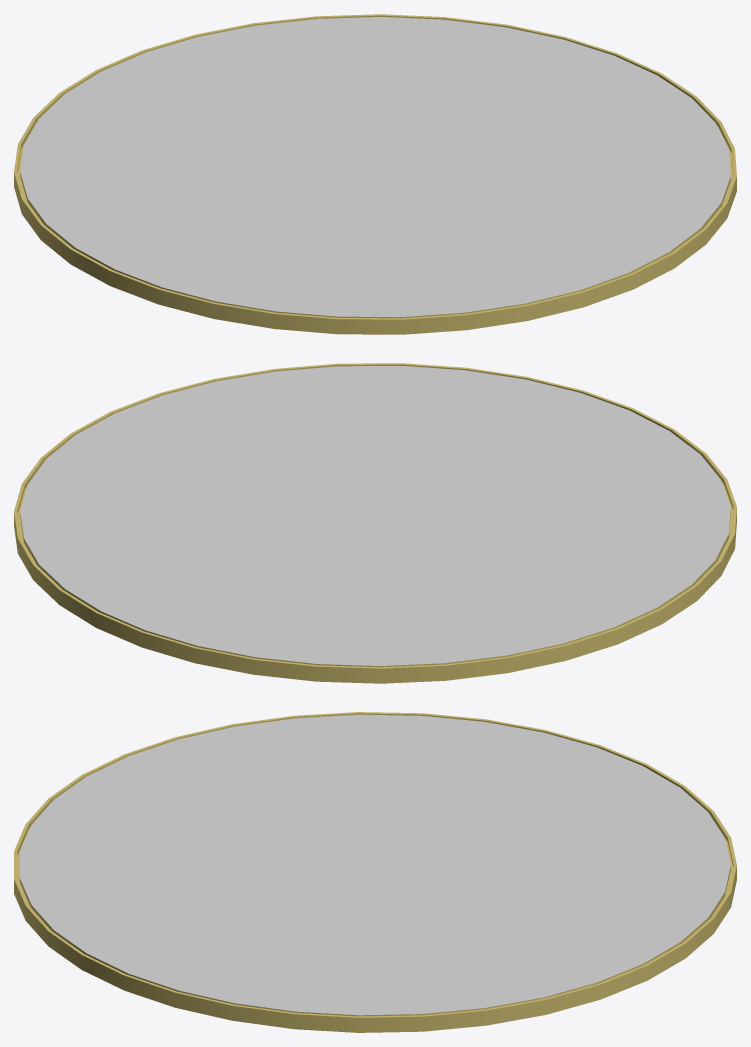
Rendered from Circular Floor Segment.fbx.
3 renders of one model, top to bottom at view 1: azimuth 30°, elevation 25°; view 2: azimuth 150°, elevation 25°; view 3: azimuth 270°, elevation 25°, orthographic.
Visible parts, largest first — view 1: Cylinder; view 2: Cylinder; view 3: Cylinder.
Boxes of the visible parts, x1=… form: Cylinder: x1=14, y1=14, x2=736, y2=334; Cylinder: x1=14, y1=363, x2=736, y2=683; Cylinder: x1=14, y1=712, x2=736, y2=1032.
Bounding box in the file's own units: 899 × 20.65 × 898.
